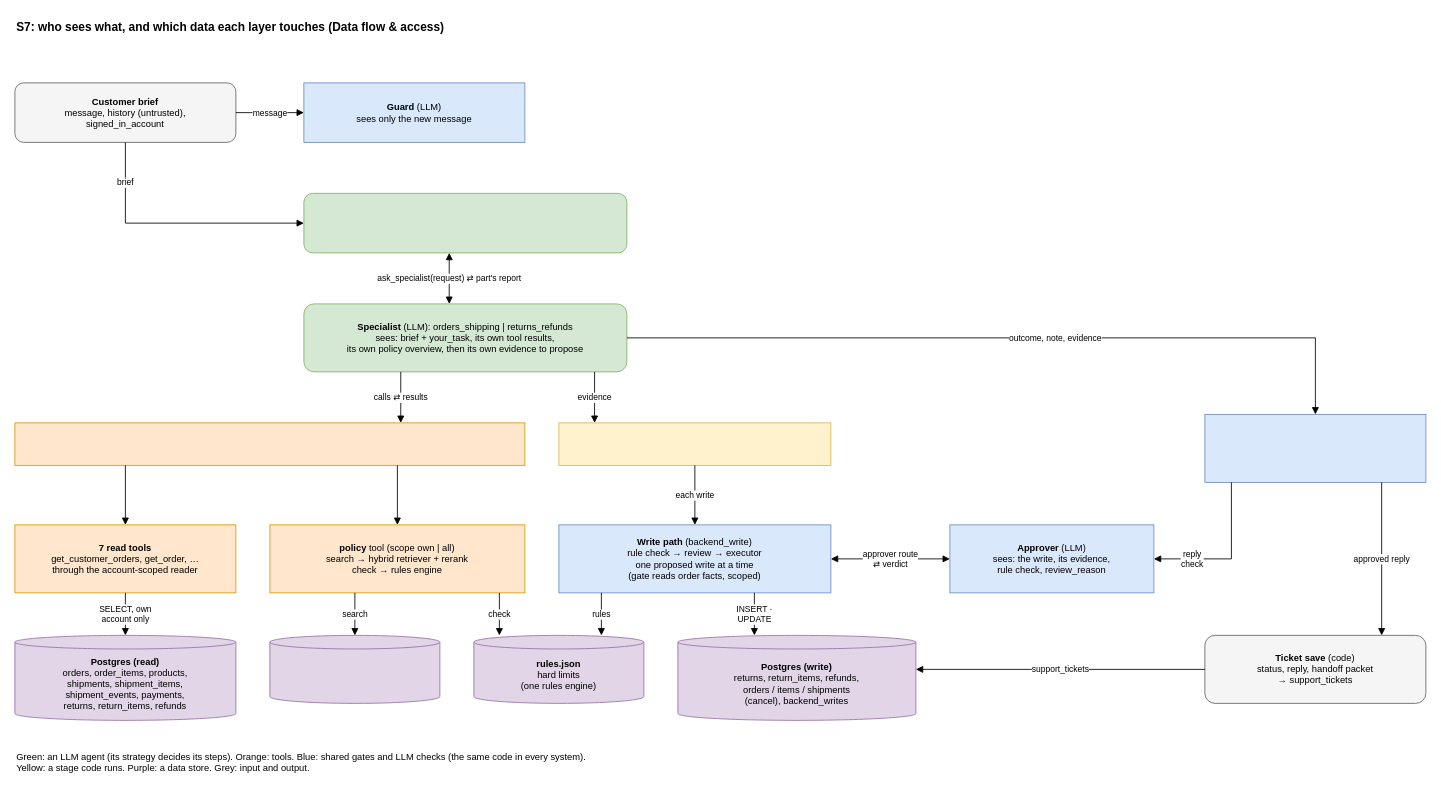
Image size: 1441x802. Some labels were removed from this diagram. Each missing label, with the centre of its shape:
"Pinecone index chunks of the 2 policy PDFs" goes at [354,669].
"Propose (same LLM, structured) outcome, note, writes" goes at [694,443].
"Reply writer (LLM) sees: outcome, note, evidence, problems code found" goes at [1315,448].
"Supervisor (LLM) sees: the brief and each part's report no data tools, no policy" goes at [465,223].
"Tool registry : reads + policy only records every call as evidence" goes at [269,443].
